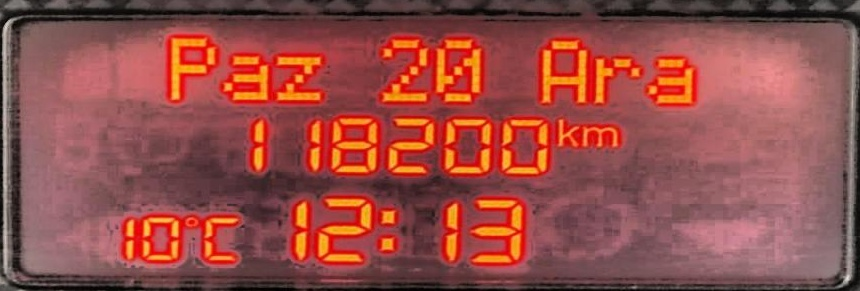0: (433, 37, 488, 105), (500, 113, 548, 177), (443, 112, 490, 177), (139, 210, 179, 263)
1: (248, 110, 273, 179), (290, 196, 311, 265), (442, 195, 462, 265), (303, 112, 324, 174), (120, 212, 138, 267)
2: (377, 34, 432, 104), (319, 191, 370, 266), (385, 113, 436, 175)
3: (467, 191, 530, 268)
8: (332, 111, 381, 177)
X: (536, 36, 591, 107), (167, 32, 217, 101), (644, 52, 697, 106), (274, 49, 327, 101), (222, 50, 270, 101), (595, 53, 638, 105), (200, 213, 243, 264), (376, 202, 397, 254), (583, 122, 621, 150), (553, 115, 581, 149)
